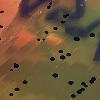black: (20, 80, 31, 86), (88, 76, 95, 85), (11, 86, 19, 93), (48, 55, 56, 62), (89, 31, 96, 39), (52, 72, 59, 79), (74, 35, 80, 43), (81, 80, 87, 88), (13, 63, 20, 69), (59, 55, 66, 61), (67, 80, 73, 87), (69, 93, 76, 99), (80, 85, 86, 92), (8, 93, 16, 98), (44, 6, 52, 11), (65, 51, 71, 57), (56, 48, 62, 54), (76, 89, 82, 95), (48, 1, 54, 7), (0, 24, 5, 31), (54, 25, 59, 31), (1, 9, 6, 15), (9, 68, 14, 73), (61, 20, 66, 25), (65, 13, 71, 17), (44, 30, 49, 34), (37, 38, 41, 43), (42, 37, 46, 42), (62, 15, 67, 19), (0, 36, 3, 42)
